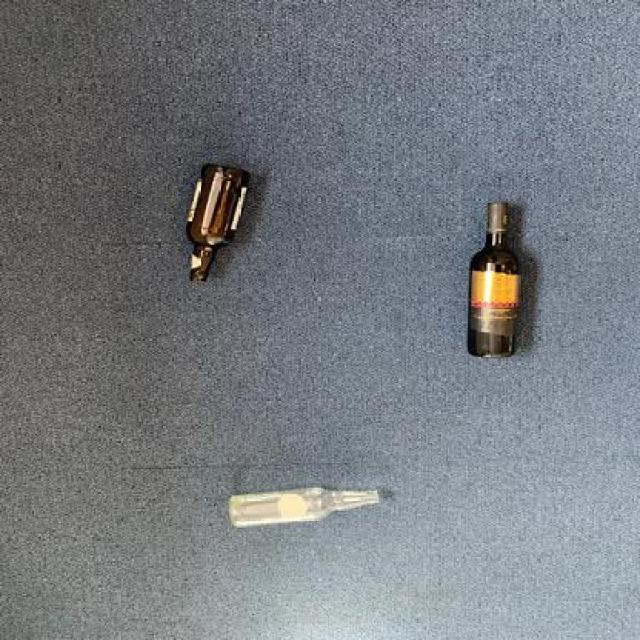trash: (464, 201, 525, 365), (182, 162, 253, 290), (228, 482, 382, 530)
